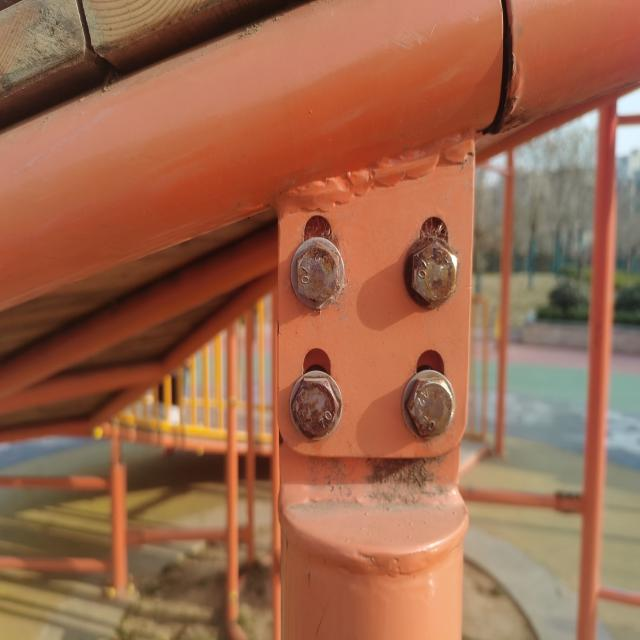bolt head: (409, 238, 459, 311), (405, 374, 456, 439), (290, 376, 340, 440), (296, 241, 342, 308)
